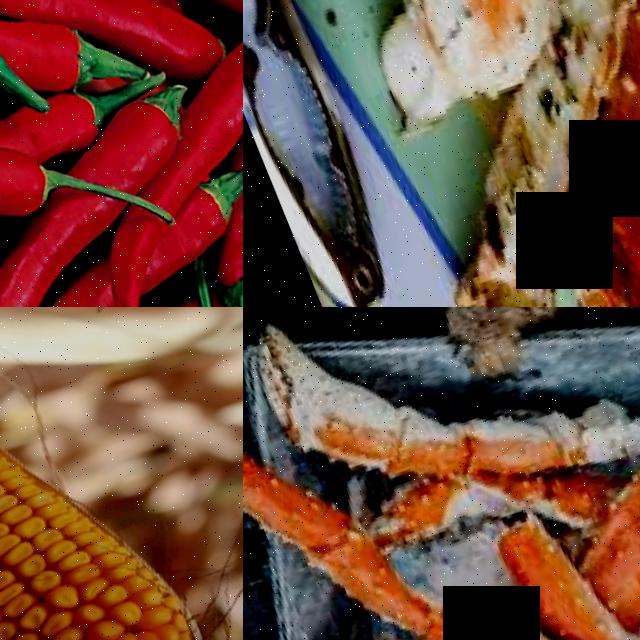chilli: (0, 170, 141, 307), (0, 0, 61, 288), (162, 1, 243, 148)
corn: (0, 408, 227, 640)
crab: (276, 324, 640, 640), (368, 0, 640, 307), (281, 0, 640, 101), (243, 307, 316, 557)
